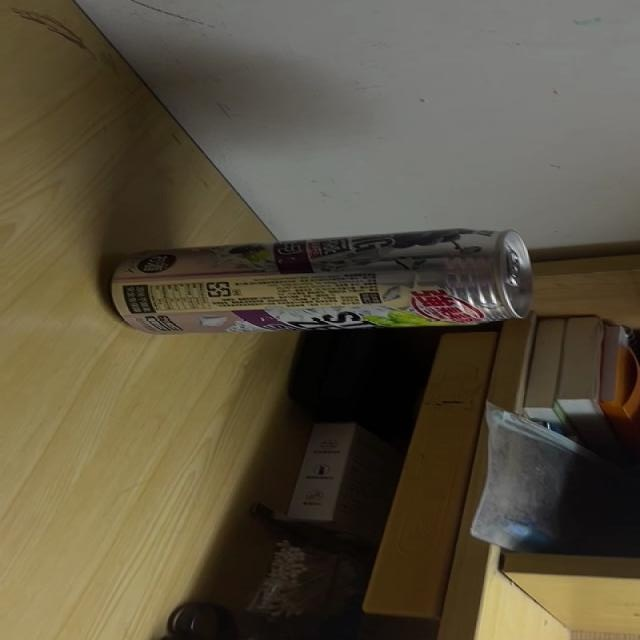Liquor: (106, 230, 542, 333)
